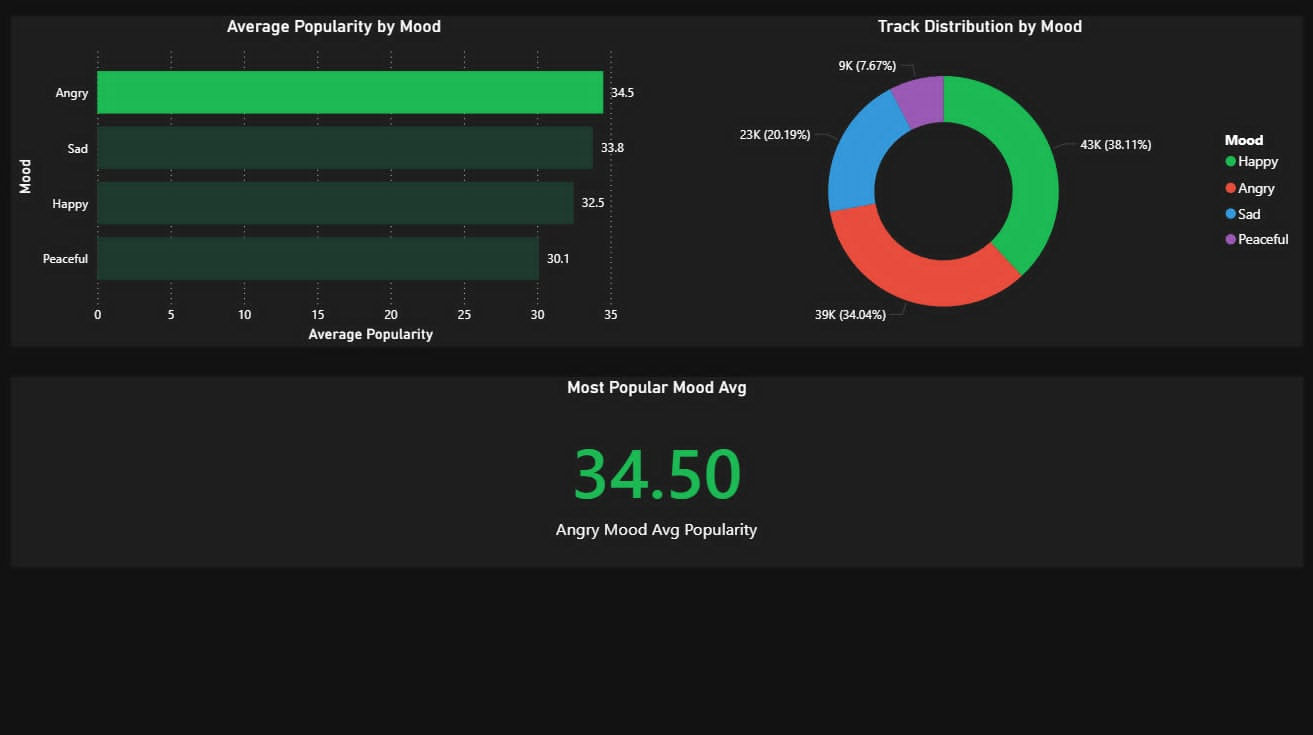

This screenshot's page, from the dashboard's own definition file:
{"tool":"powerbi","page":{"name":"Mood Analysis","canvas":[1280,720],"ordinal":1},"visuals":[{"type":"clusteredBarChart","title":"Average Popularity by Mood","fields":{"Category":["mood_summary.mood"],"Y":["Sum(mood_summary.avg_popularity)"]},"box":[11.7,17.5,628.3,321.9],"z":0},{"type":"donutChart","title":"Track Distribution by Mood","fields":{"Category":["mood_summary.mood"],"Y":["Sum(mood_summary.count_track)"]},"box":[640,17.5,628.3,321.9],"z":1000},{"type":"cardVisual","title":"Most Popular Mood Avg","fields":{"Data":["Max(mood_summary.avg_popularity)"]},"box":[11.7,368.6,1256.7,184.8],"z":2000}]}

Visuals, with their boxes in screenshot pixels (x1, y1, x2, y2), scaled from the page's 1280x720 canvas onto the 1313x735 screenshot:
"Average Popularity by Mood" clusteredBarChart: {"x1": 12, "y1": 18, "x2": 656, "y2": 346}
"Track Distribution by Mood" donutChart: {"x1": 656, "y1": 18, "x2": 1301, "y2": 346}
"Most Popular Mood Avg" cardVisual: {"x1": 12, "y1": 376, "x2": 1301, "y2": 565}
